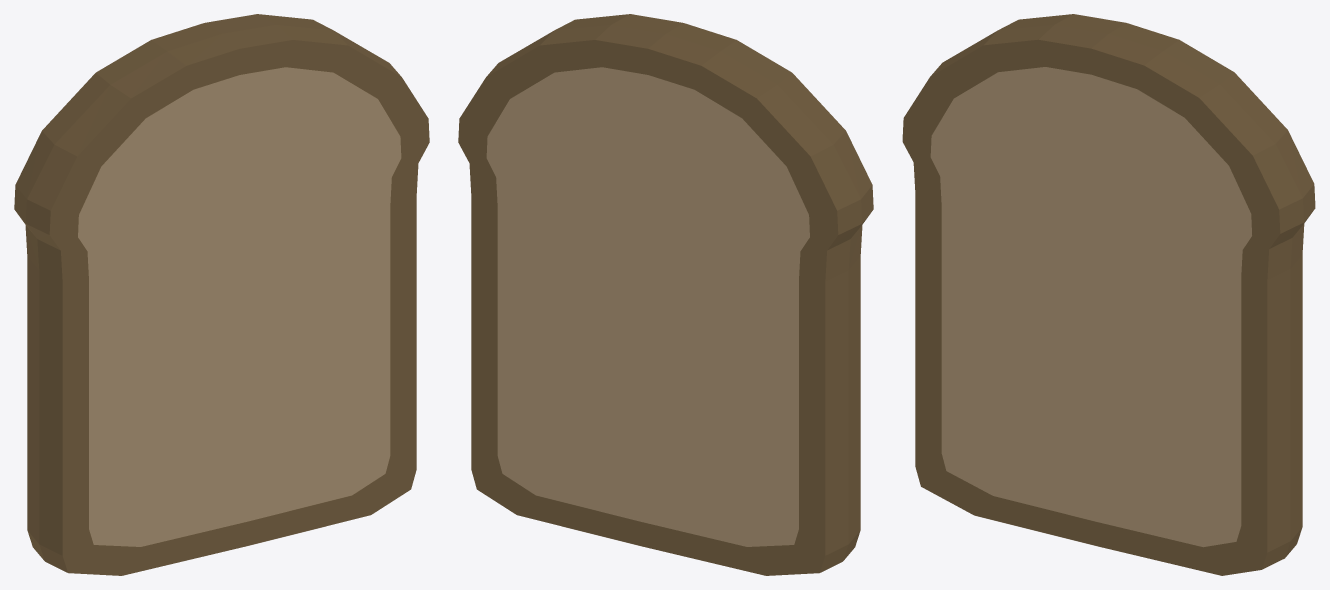
File: Bread_Slice.glb
3 views of the same model, side by side, from view 1: azimuth 30°, elevation 25°; view 2: azimuth 150°, elevation 25°; view 3: azimuth 330°, elevation 25° (orthographic).
Visible parts, largest first — view 1: Bread_Slice; view 2: Bread_Slice; view 3: Bread_Slice.
Boxes of the visible parts, bbox=[...] form: Bread_Slice: bbox=[14, 14, 429, 575]; Bread_Slice: bbox=[458, 14, 873, 575]; Bread_Slice: bbox=[902, 14, 1315, 575].
Bounding box in the file's own units: 0.6934 × 0.847 × 0.1083.
